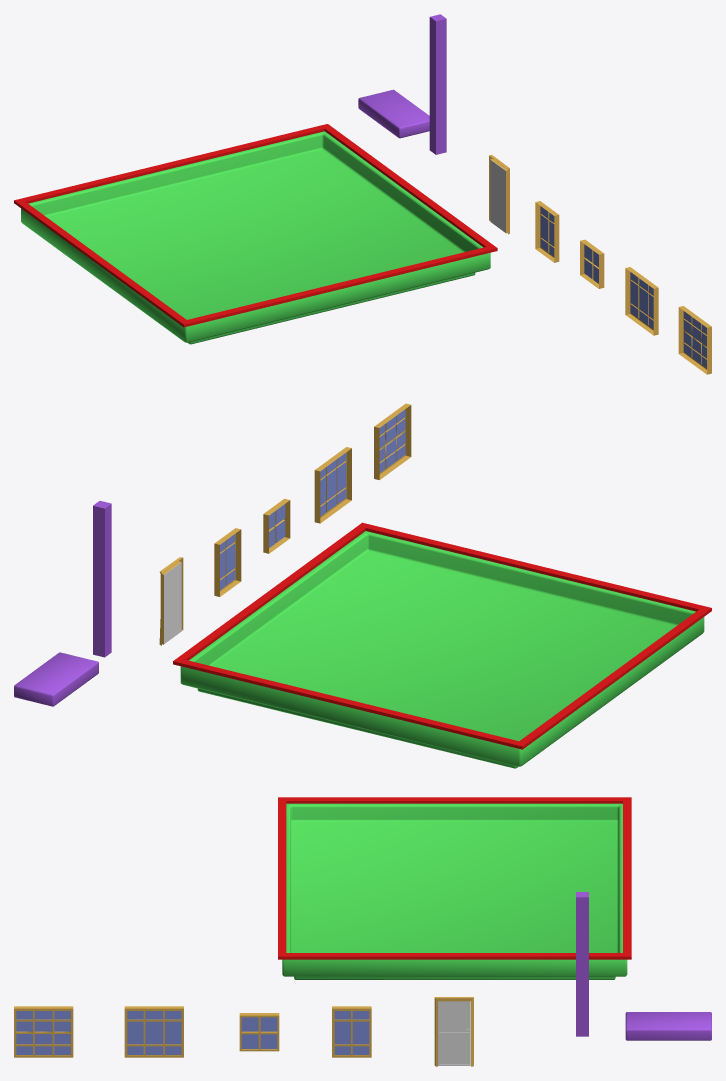
The model's file is asset.fbx.
The picture shows the model from 3 angles, top to bottom: view 1: azimuth 30°, elevation 25°; view 2: azimuth 150°, elevation 25°; view 3: azimuth 270°, elevation 25°; orthographic projection. The views are drawn at different scales.
Parts seen in each view (by area): view 1: Куб.001, Куб, Куб.002, Куб.003, Куб.029, Куб.044, Куб.040, Куб.032; view 2: Куб.001, Куб, Куб.002, Куб.029, Куб.003, Куб.044, Куб.040, Куб.032; view 3: Куб.001, Куб.029, Куб.003, Куб.044, Куб.002, Куб.040, Куб, Куб.032.
Boxes of the visible parts, x1=… form: Куб.001: x1=14, y1=124, x2=497, y2=344; Куб: x1=429, y1=14, x2=446, y2=154; Куб.002: x1=358, y1=89, x2=429, y2=138; Куб.003: x1=678, y1=306, x2=711, y2=374; Куб.029: x1=625, y1=267, x2=658, y2=335; Куб.044: x1=489, y1=155, x2=509, y2=234; Куб.040: x1=535, y1=201, x2=559, y2=262; Куб.032: x1=580, y1=239, x2=604, y2=288; Куб.001: x1=173, y1=522, x2=711, y2=768; Куб: x1=93, y1=501, x2=111, y2=657; Куб.002: x1=14, y1=652, x2=98, y2=706; Куб.029: x1=314, y1=447, x2=351, y2=523; Куб.003: x1=374, y1=403, x2=411, y2=479; Куб.044: x1=159, y1=557, x2=183, y2=645; Куб.040: x1=214, y1=528, x2=241, y2=596; Куб.032: x1=263, y1=498, x2=290, y2=553; Куб.001: x1=278, y1=797, x2=631, y2=979; Куб.029: x1=124, y1=1006, x2=183, y2=1057; Куб.003: x1=14, y1=1006, x2=73, y2=1057; Куб.044: x1=434, y1=997, x2=473, y2=1066; Куб.002: x1=625, y1=1012, x2=711, y2=1040; Куб.040: x1=332, y1=1006, x2=371, y2=1057; Куб: x1=576, y1=892, x2=588, y2=1036; Куб.032: x1=239, y1=1013, x2=279, y2=1051.
Bounding box in the file's own units: 1166 × 438 × 1619.
